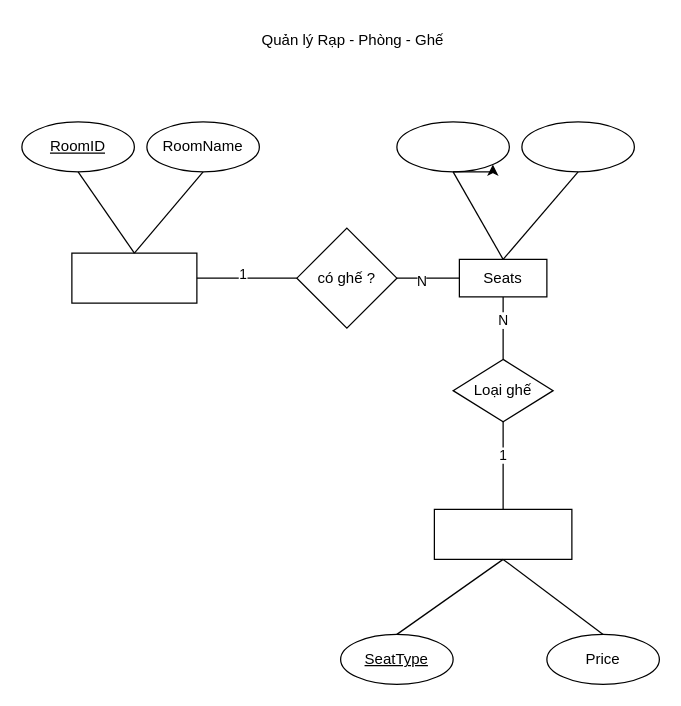
The diagram is 681 pixels wide and 706 high, and some of its shapes have lost their labels. The centre of each missing label's shape, as x and y in pixels:
"Rooms" belongs at pixel 134 277.
"SeatID" belongs at pixel 452 146.
"SeatNumber" belongs at pixel 577 146.
"SeatTypePricing" belongs at pixel 502 533.
